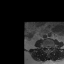CCS_normal: (47, 45, 49, 52)
LFS_severe_stenosis: (50, 45, 51, 49)
LLS_stenosis: (49, 45, 50, 50)
RFS_stenosis: (45, 44, 46, 49)
RLS_normal: (46, 45, 47, 49)
